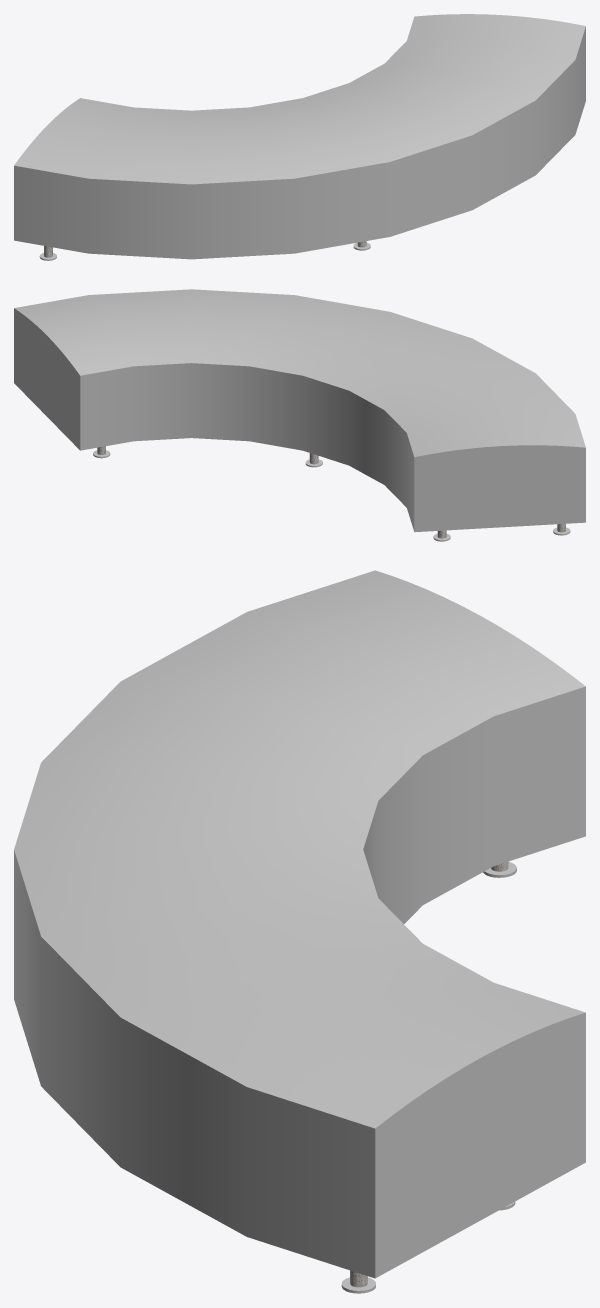
The picture shows the model from 3 angles, top to bottom: view 1: azimuth 30°, elevation 25°; view 2: azimuth 150°, elevation 25°; view 3: azimuth 270°, elevation 25°; orthographic projection. The views are drawn at different scales.
Visible parts, largest first — view 1: mesh2_mesh2-geometry; view 2: mesh2_mesh2-geometry, mesh1_mesh1-geometry; view 3: mesh2_mesh2-geometry, mesh1_mesh1-geometry.
Boxes of the visible parts, bbox=[...] form: mesh2_mesh2-geometry: bbox=[14, 14, 585, 259]; mesh2_mesh2-geometry: bbox=[14, 289, 585, 532]; mesh1_mesh1-geometry: bbox=[93, 446, 570, 541]; mesh2_mesh2-geometry: bbox=[14, 570, 585, 1278]; mesh1_mesh1-geometry: bbox=[341, 861, 516, 1293].
Bounding box in the file's own units: 0.9068 × 0.1535 × 0.3926.
